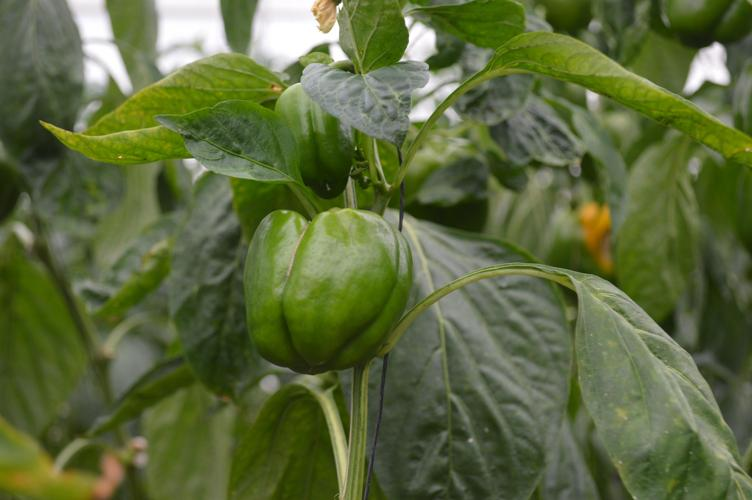BellPepper: (242, 199, 416, 376), (262, 75, 373, 197)
